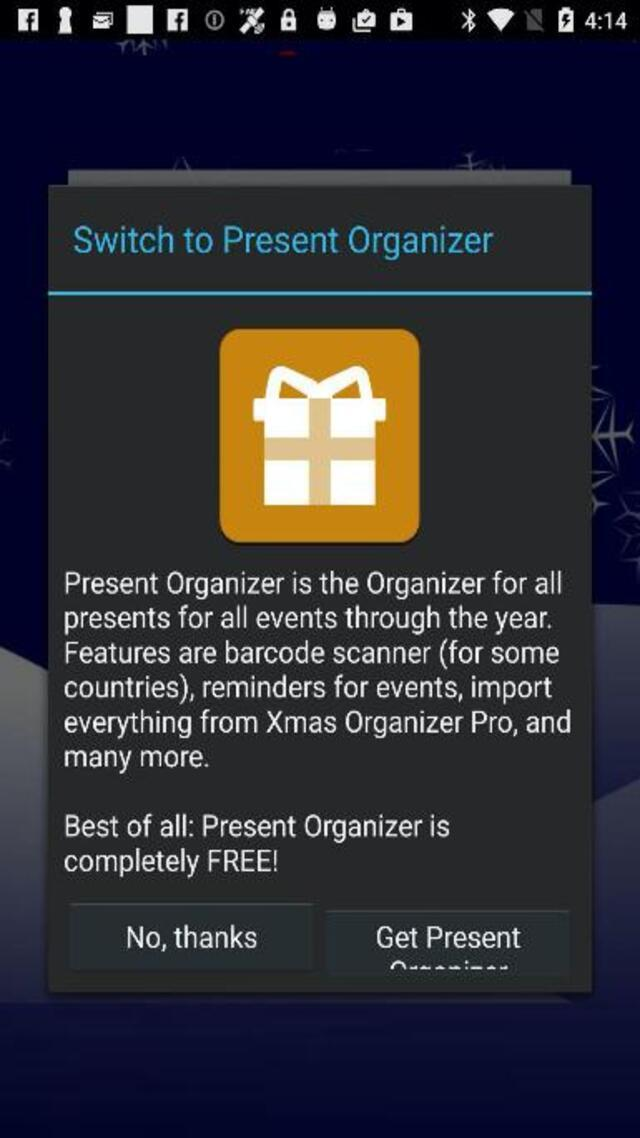Image: (218, 327, 420, 544)
Text: (61, 567, 566, 601), (62, 605, 555, 639), (61, 708, 574, 738), (73, 224, 492, 260), (62, 674, 556, 704), (64, 639, 560, 668), (60, 812, 455, 844), (62, 847, 287, 881), (60, 742, 212, 775), (371, 923, 525, 951), (124, 924, 260, 953)
TextButton: (324, 910, 574, 978), (67, 903, 315, 971)
WS3: (380, 959, 527, 976)
